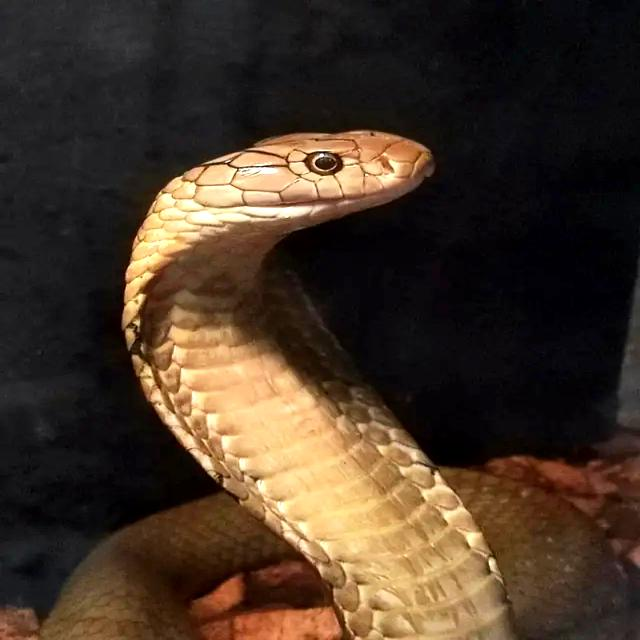Ophiophagus hannah: (42, 131, 627, 639)
snake: (42, 131, 627, 639)
